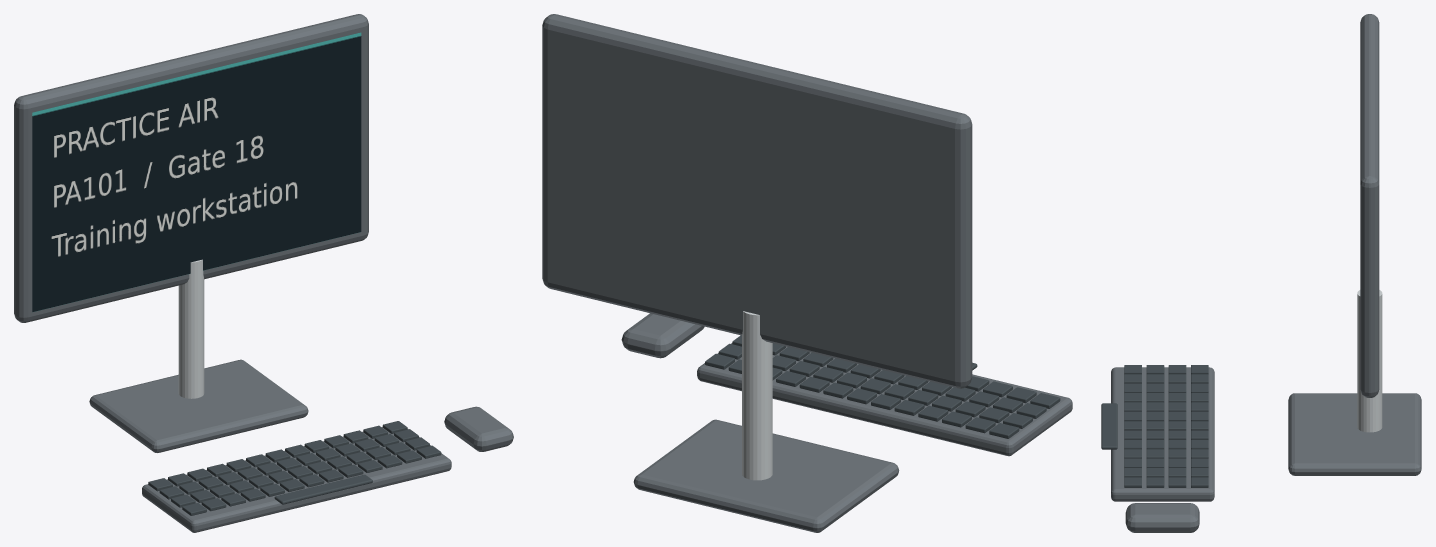
File: staff-workstation.glb
3 renders of one model, left to right at view 1: azimuth 30°, elevation 25°; view 2: azimuth 150°, elevation 25°; view 3: azimuth 270°, elevation 25°, orthographic. The views are drawn at different scales.
Parts seen in each view (by area): view 1: EditableScreen, Monitor, MonitorBase, Keyboard, Stem, Mouse, Spacebar; view 2: Monitor, MonitorBase, Keyboard, Stem, Mouse; view 3: MonitorBase, Monitor, Keyboard, Mouse, Stem, Spacebar.
Part boxes in pixels (<box>): EditableScreen: <box>32,32,361,312</box>; Monitor: <box>14,14,368,322</box>; MonitorBase: <box>89,359,308,452</box>; Keyboard: <box>142,427,451,532</box>; Stem: <box>178,259,204,398</box>; Mouse: <box>444,406,513,451</box>; Spacebar: <box>274,474,372,504</box>; Monitor: <box>542,14,972,388</box>; MonitorBase: <box>633,419,899,532</box>; Keyboard: <box>697,343,1072,456</box>; Stem: <box>742,311,772,480</box>; Mouse: <box>621,313,704,358</box>; MonitorBase: <box>1288,393,1421,475</box>; Monitor: <box>1360,14,1379,397</box>; Keyboard: <box>1111,367,1214,501</box>; Mouse: <box>1125,503,1199,532</box>; Stem: <box>1357,290,1382,432</box>; Spacebar: <box>1101,403,1117,449</box>.
Size of the model in its own units: 0.58 by 0.515 by 0.433.
Materials: 4 (1 with a texture image).
